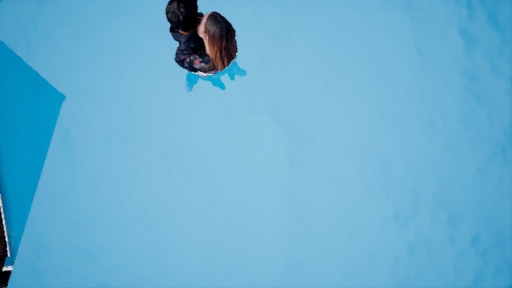person: (161, 2, 246, 96)
